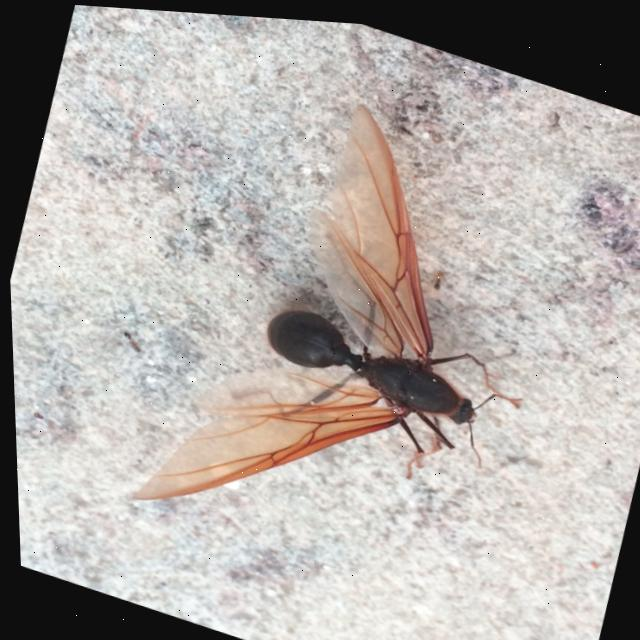Alive-Male-Alate: (113, 49, 589, 612)
